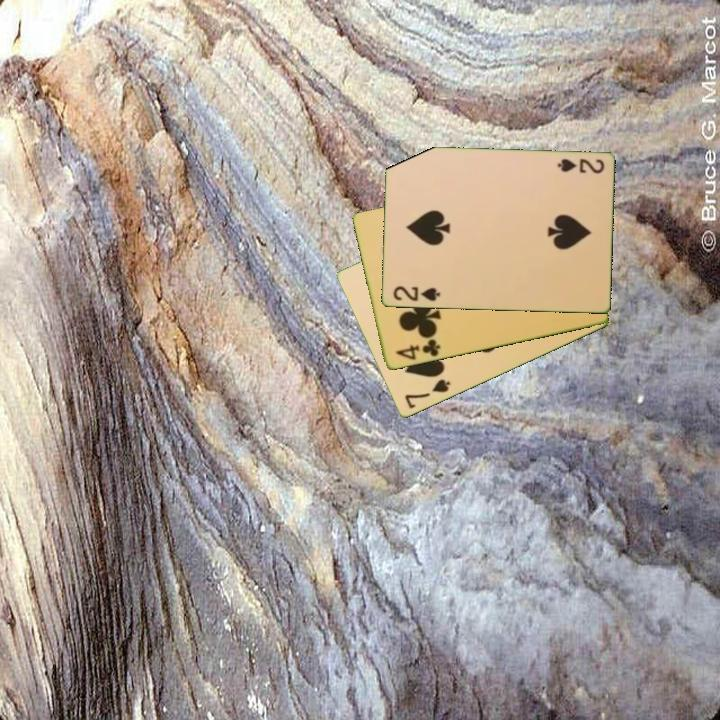2s: (554, 155, 607, 177), (389, 283, 443, 304)
4c: (392, 336, 443, 363)
7s: (401, 376, 453, 412)
